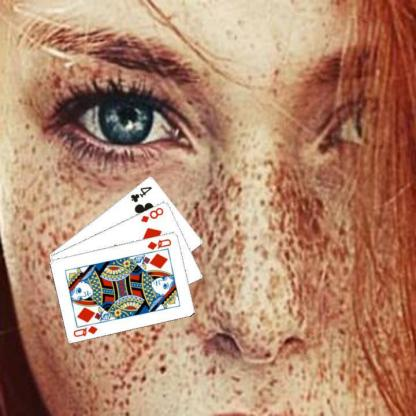4C: (128, 184, 153, 203)
8D: (138, 204, 165, 223)
QD: (71, 323, 99, 338), (145, 236, 172, 250)
